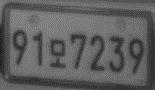1: (32, 30, 44, 67)
2: (88, 33, 106, 72)
3: (108, 34, 125, 73)
7: (69, 32, 87, 70)
9: (127, 38, 145, 75), (11, 29, 28, 66)
모: (47, 38, 67, 68)
